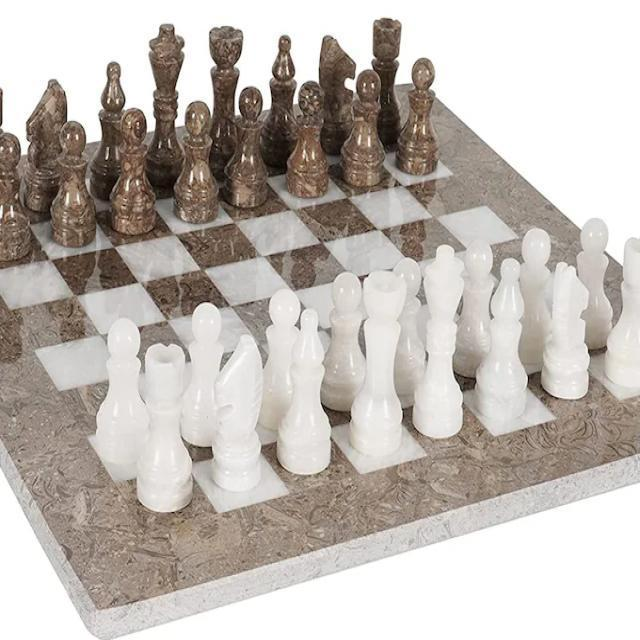chess-table-corners: (128, 509, 182, 564), (379, 97, 426, 140)
